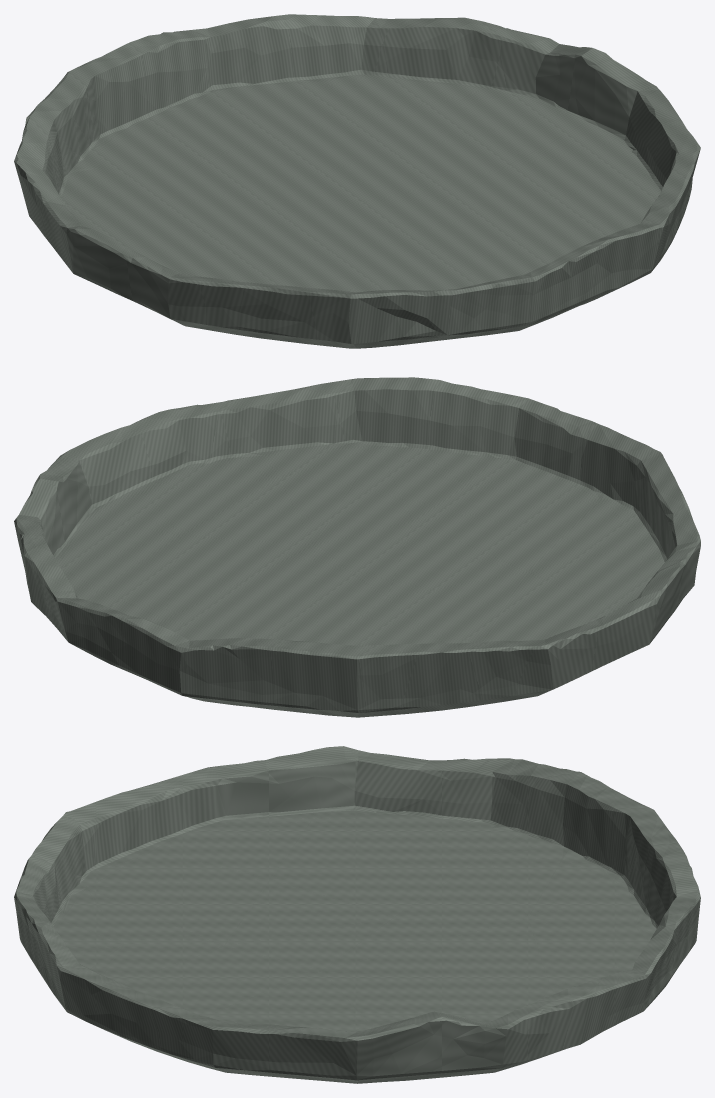
The model's file is tray_aluminium_reduced.glb.
3 views of the same model, one above another, from view 1: azimuth 30°, elevation 25°; view 2: azimuth 150°, elevation 25°; view 3: azimuth 270°, elevation 25° (orthographic).
Visible parts, largest first — view 1: RolledMetalTop, PlainScratchedUnderside; view 2: RolledMetalTop, PlainScratchedUnderside; view 3: RolledMetalTop, PlainScratchedUnderside.
Part boxes in pixels (bbox=[...]): RolledMetalTop: bbox=[14, 14, 700, 344]; PlainScratchedUnderside: bbox=[74, 242, 671, 348]; RolledMetalTop: bbox=[14, 377, 700, 710]; PlainScratchedUnderside: bbox=[45, 586, 691, 717]; RolledMetalTop: bbox=[14, 746, 700, 1076]; PlainScratchedUnderside: bbox=[20, 940, 695, 1083].
Size of the model in its own units: 1.99 by 0.2411 by 1.99.
Materials: 1 (1 with a texture image).
